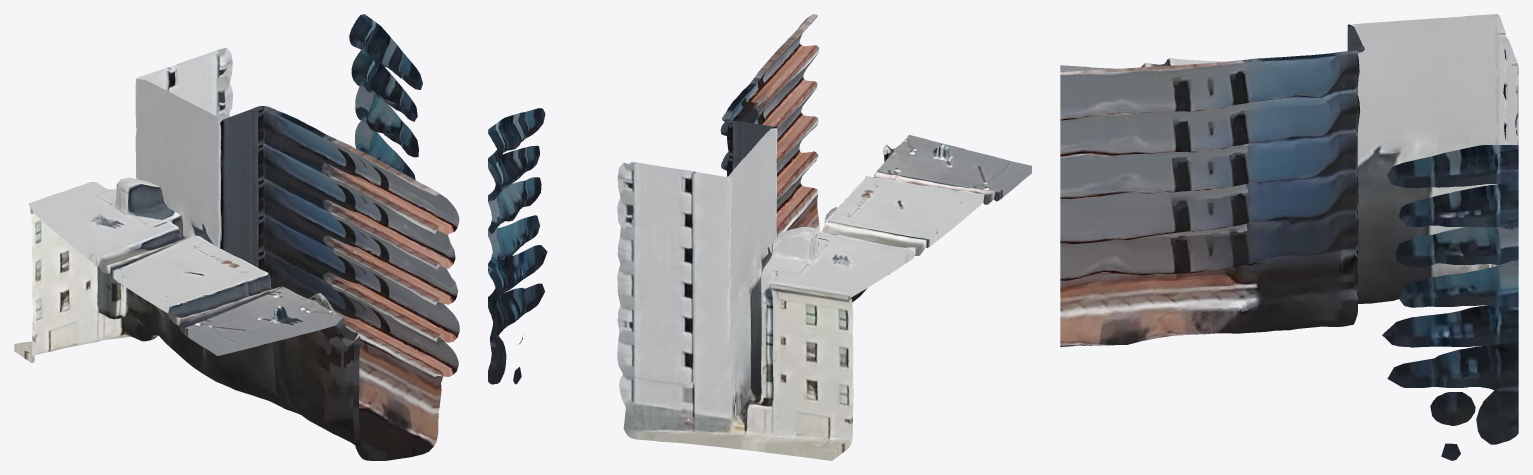
The model's file is z20-167730-405196-h0-yup-uvflip-v3-world.glb.
3 views of the same model, side by side, from view 1: azimuth 30°, elevation 25°; view 2: azimuth 150°, elevation 25°; view 3: azimuth 270°, elevation 25° (orthographic). The views are drawn at different scales.
Bounding box in the file's own units: 30.16 × 23.08 × 30.32.
1 material, 1 textured.
